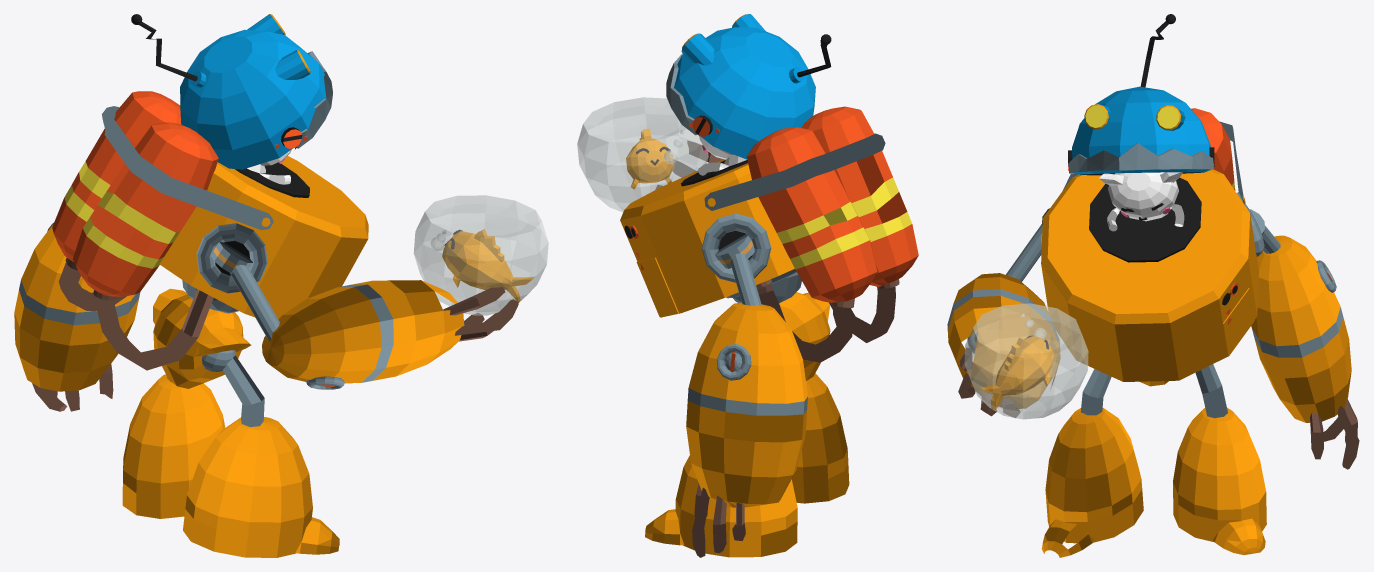
File: scrapper.glb
3 renders of one model, left to right at view 1: azimuth 30°, elevation 25°; view 2: azimuth 150°, elevation 25°; view 3: azimuth 270°, elevation 25°, orthographic. The views are drawn at different scales.
Parts seen in each view (by area): view 1: Node; view 2: Node; view 3: Node.
Boxes of the visible parts, <box> form: Node: <box>14,14,548,557</box>; Node: <box>577,14,918,557</box>; Node: <box>947,14,1359,557</box>.
Bounding box in the file's own units: 0.9572 × 1.19 × 0.9256.
Materials: 2 (2 with a texture image).
